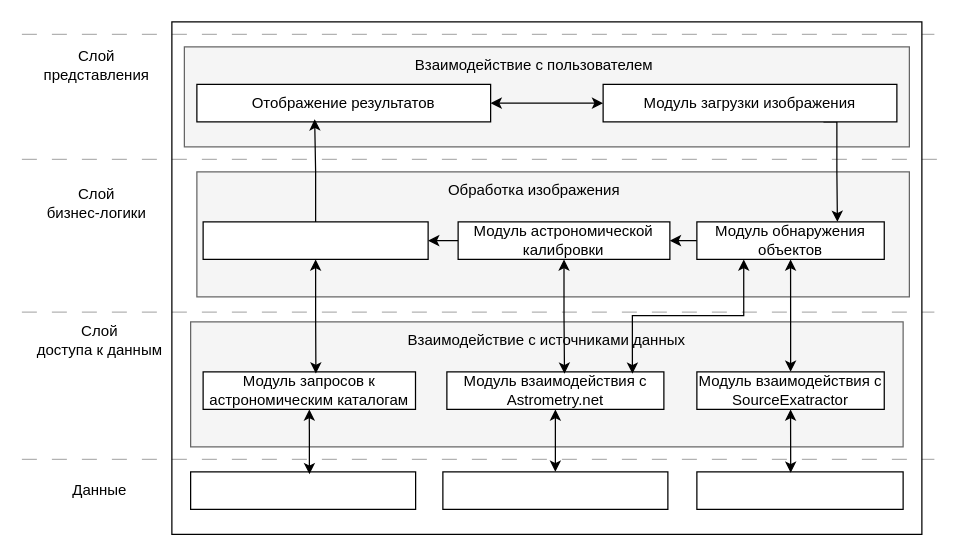
Some shapes in this 970 by 556 pixel diagram are drawn without their labels. Here are the shapes that lost their labels. From the top down, the box of each, then its label:
(202, 221, 428, 259): Модуль классификации космических объектов
(189, 471, 416, 509): Астрономические каталоги
(442, 471, 668, 509): API Astrometry
(696, 471, 903, 509): Библиотека SEP
